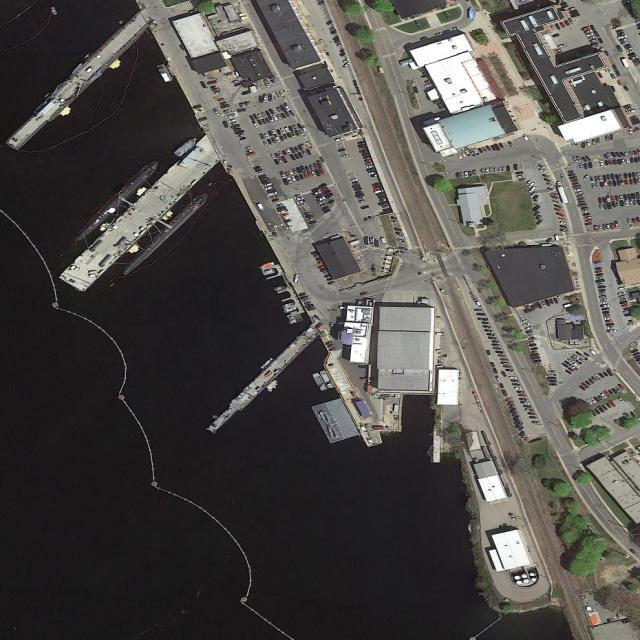Dock: (58, 132, 226, 297), (6, 9, 150, 152), (202, 321, 319, 437)
Submarine: (120, 191, 209, 277), (74, 160, 159, 243)
